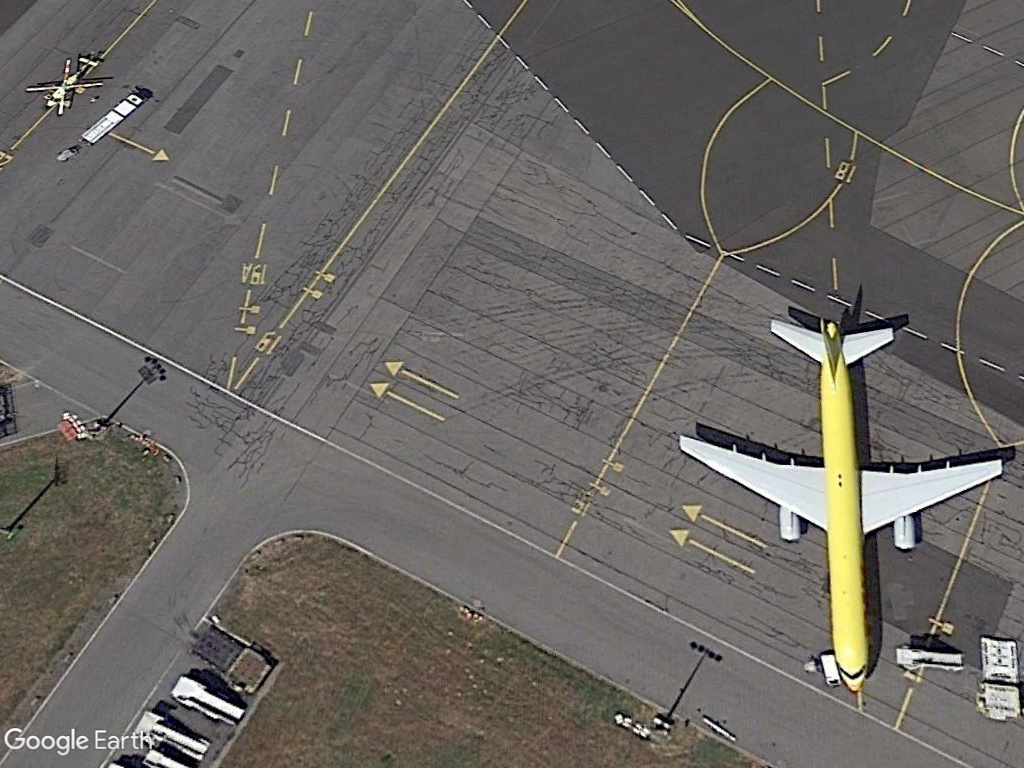airliner: (655, 304, 999, 707)
helicopter: (23, 50, 113, 119)
stairtruck: (170, 671, 249, 728)
